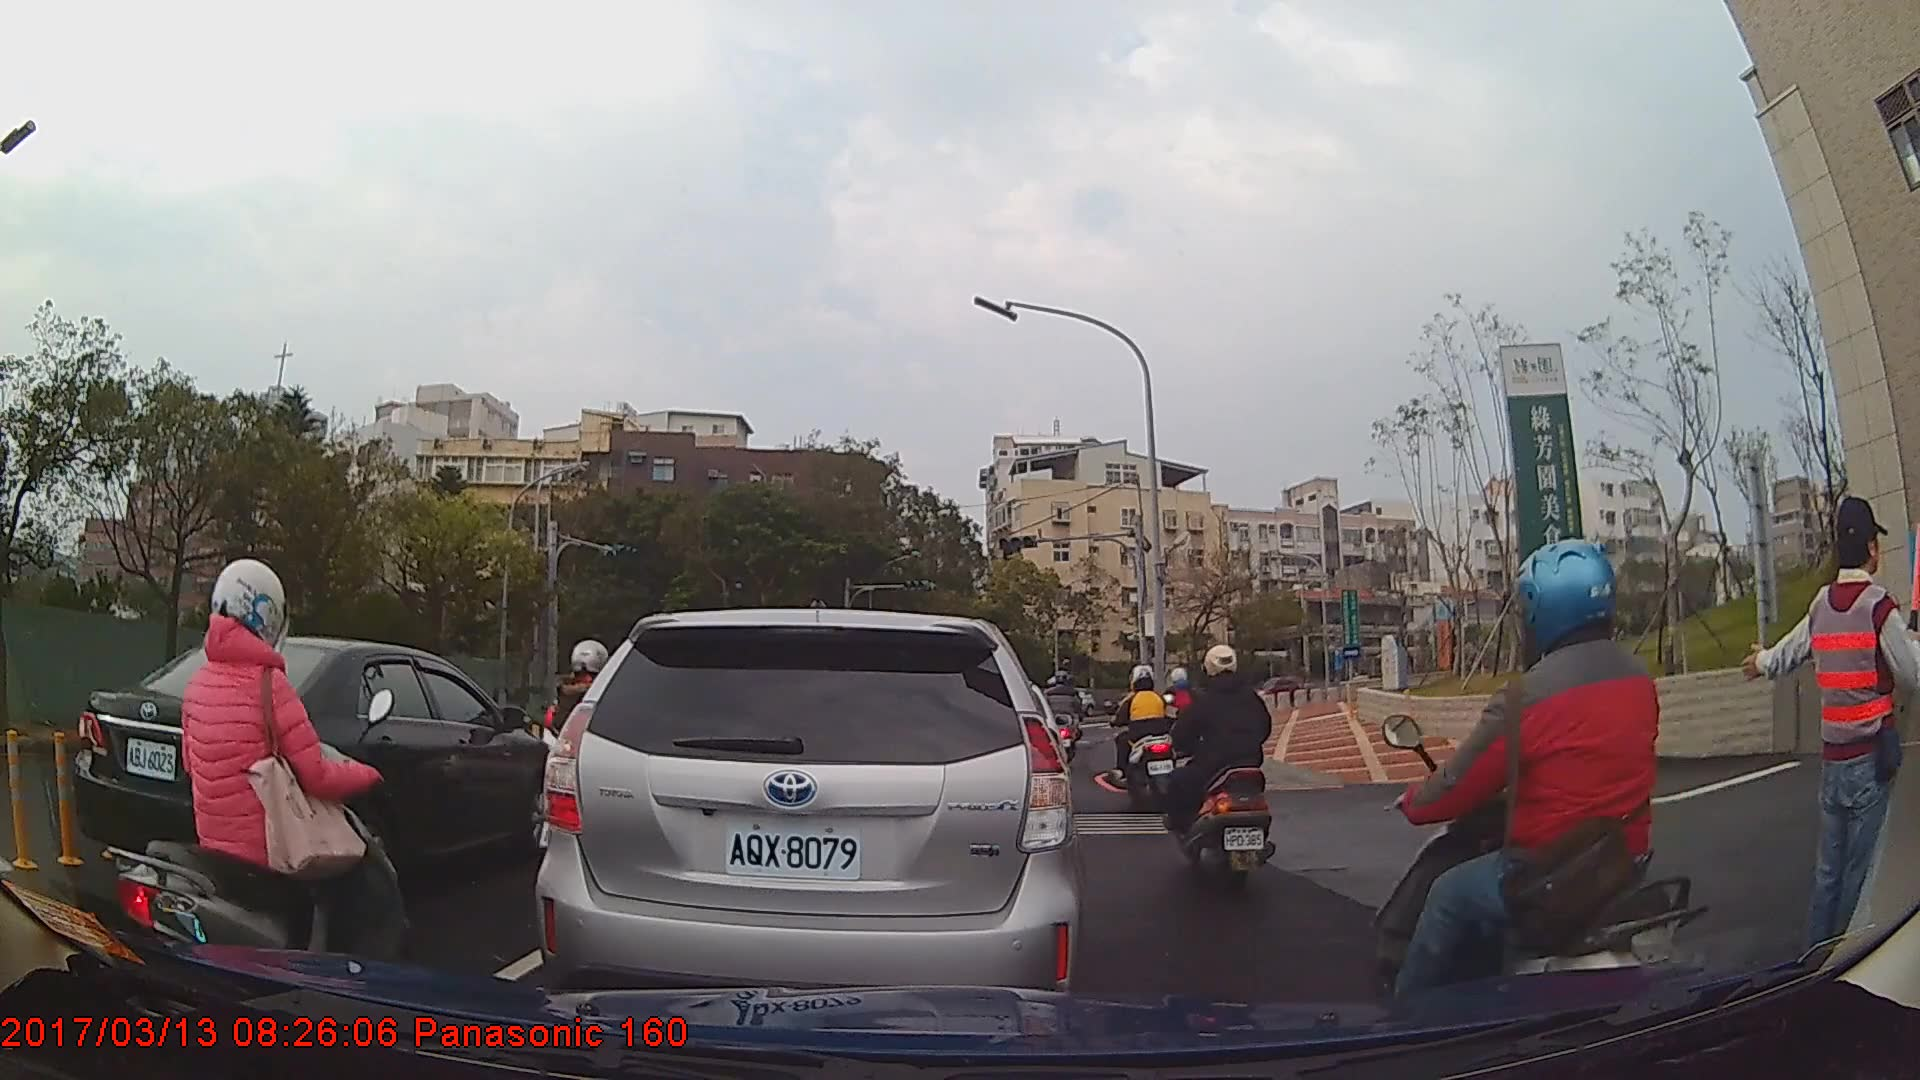pedestrian: (1744, 497, 1920, 979)
rider: (1369, 537, 1725, 1048), (109, 554, 420, 1040), (1161, 643, 1278, 897), (1111, 662, 1183, 818), (1042, 671, 1085, 765)
vehicle: (534, 608, 1084, 1025), (76, 635, 565, 917)
